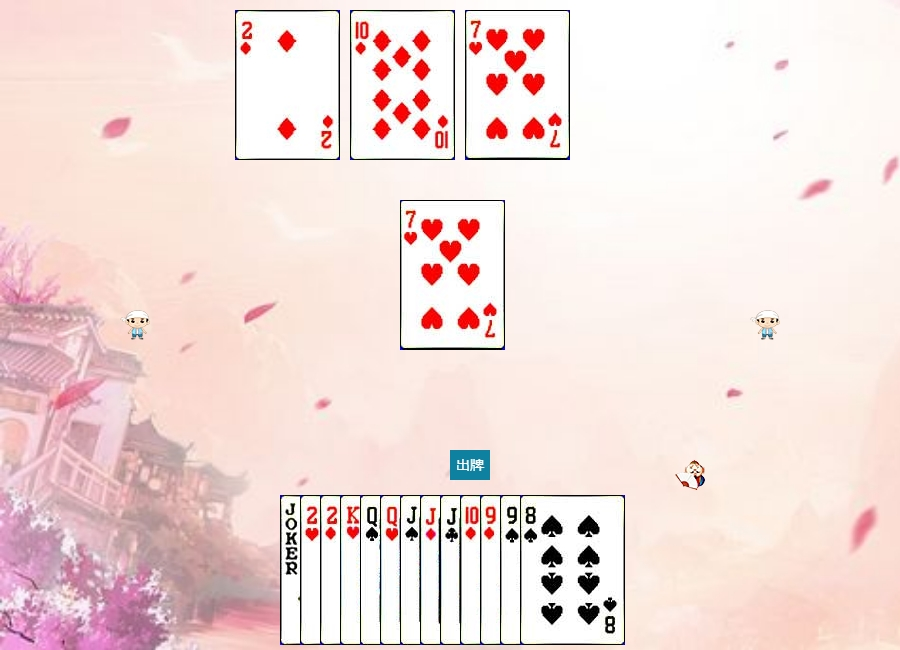10~1: (350, 10, 455, 160), (460, 495, 565, 645)
11~1: (420, 495, 525, 645)
11~2: (440, 495, 545, 645)
11~4: (400, 495, 505, 645)
12~3: (380, 495, 485, 645)
12~4: (360, 495, 465, 645)
13~3: (340, 495, 445, 645)
15~1: (235, 10, 340, 160), (320, 495, 425, 645)
15~3: (300, 495, 405, 645)
17~3: (280, 495, 385, 645)
7~3: (465, 10, 570, 160), (400, 200, 505, 350)
8~4: (520, 495, 625, 645)
9~1: (480, 495, 585, 645)
9~4: (500, 495, 605, 645)
